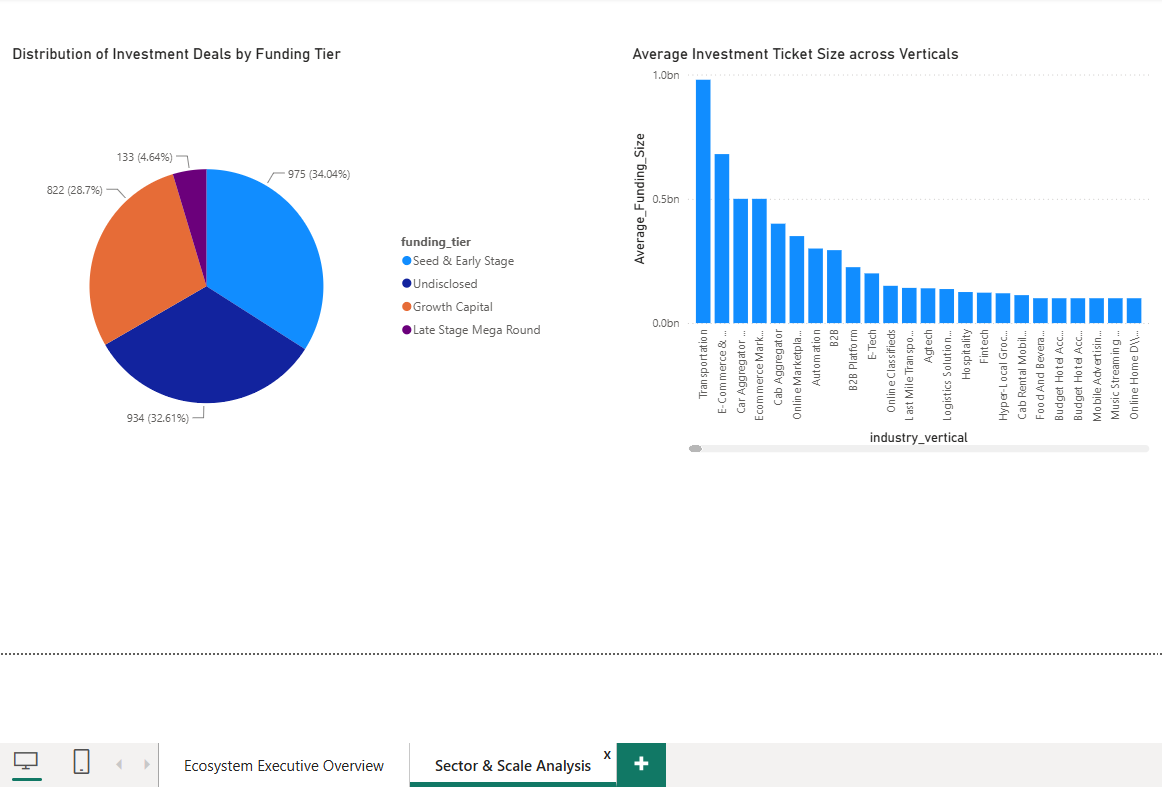

Layout of this report page (visuals, bound fields, positions):
{"tool":"powerbi","page":{"name":"Sector & Scale Analysis","canvas":[1280,720],"ordinal":1},"visuals":[{"type":"pieChart","title":"Distribution of Investment Deals by Funding Tier","fields":{"Category":["cleaned_dataset (2).funding_tier"],"Y":["CountNonNull(cleaned_dataset (2).sr_no)"]},"box":[9.6,52.1,599.7,511.8],"z":0},{"type":"clusteredColumnChart","title":"Average Investment Ticket Size across Verticals","fields":{"Category":["cleaned_dataset (2).industry_vertical"],"Y":["cleaned_dataset (2).Average_Funding_Size"]},"box":[690.2,52.1,577.7,452.8],"z":1}]}

Visuals, with their boxes on the page's 1280x720 design canvas (x1, y1, x2, y2). These are canvas units, not pixel positions in the 1162x787 screenshot, which may show the page scaled, cropped or inside an application window:
"Distribution of Investment Deals by Funding Tier" pieChart: [x1=10, y1=52, x2=609, y2=564]
"Average Investment Ticket Size across Verticals" clusteredColumnChart: [x1=690, y1=52, x2=1268, y2=505]
